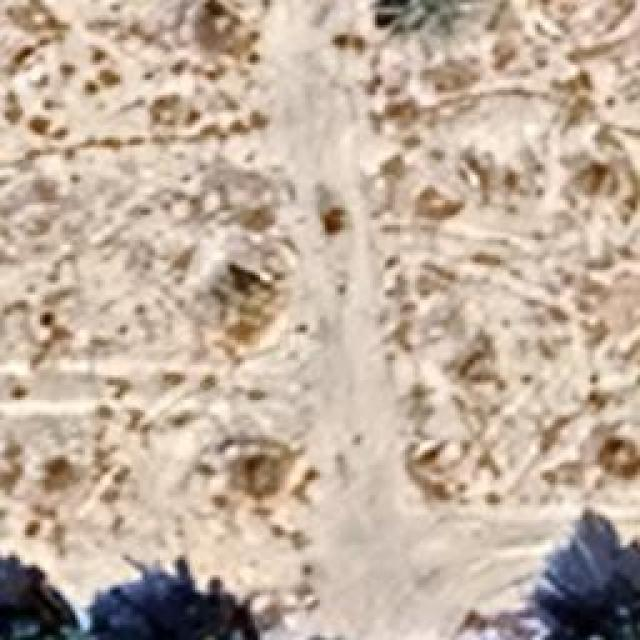PalmTree: (372, 0, 472, 32)
